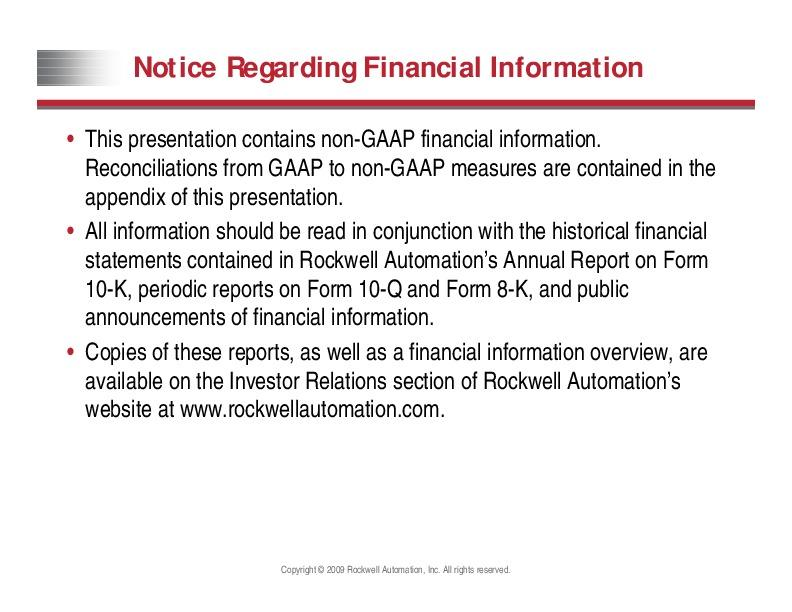paragraph: (56, 117, 762, 439)
subtitle: (271, 557, 533, 585)
title: (122, 44, 661, 88)
